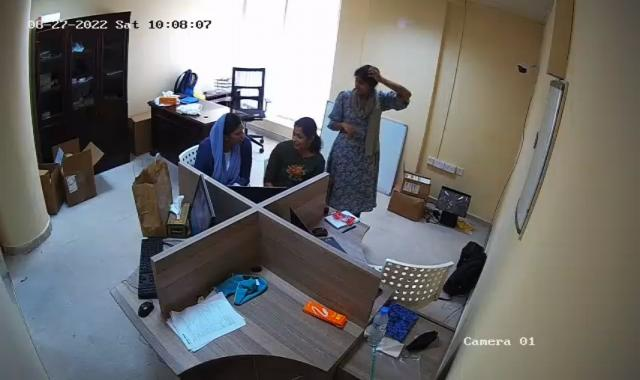no_hairnet: (210, 111, 247, 148), (352, 60, 383, 92), (292, 116, 317, 153)
